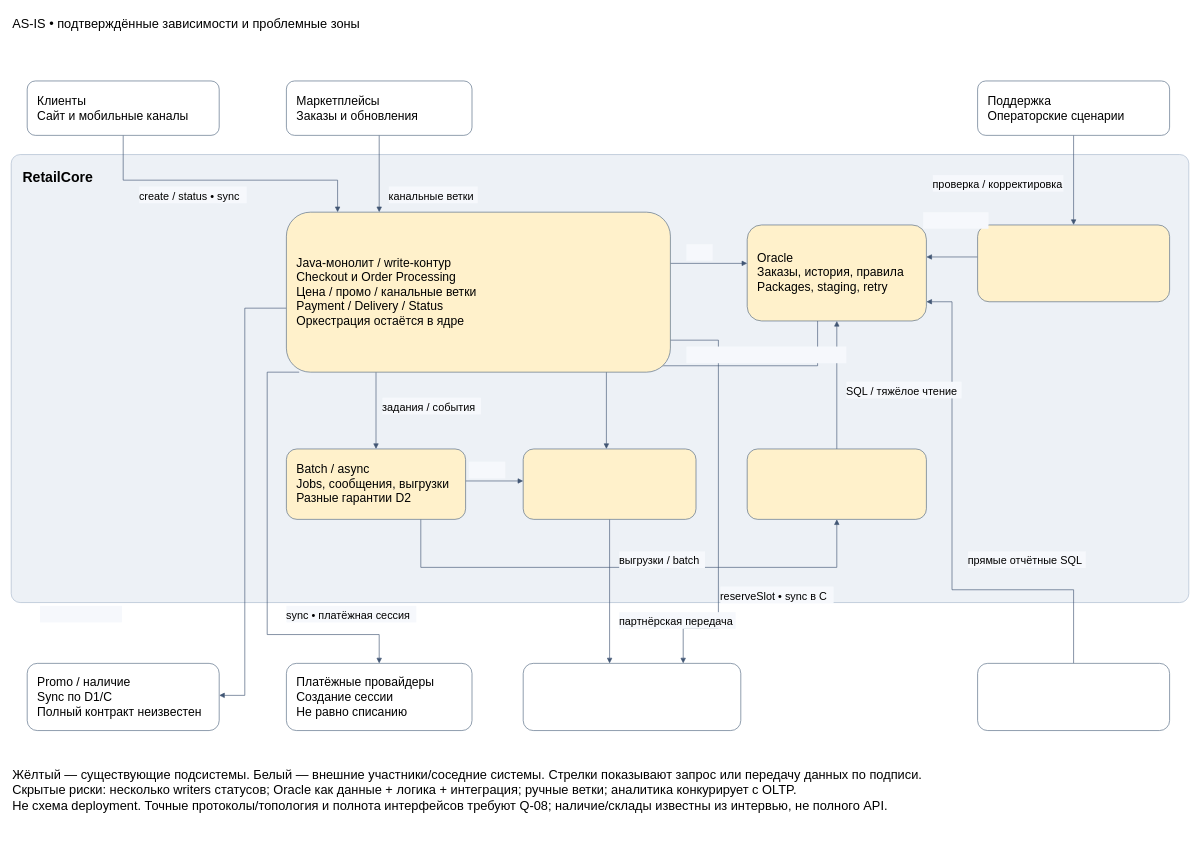
Image size: 1200x850. Some labels were removed from this diagram. Each missing label, with the centre of its shape:
.NET-интеграции Общая схема / polling Партнёрские сценарии: the point at 609,483
Admin / Support tools Чтение и ручные действия S, D1, P: the point at 1073,263
BI / бизнес Отчётные запросы Разные определения D3: the point at 1073,697
Python-аналитика SQL, API, staging, CSV D3 / P: the point at 836,483
SQL: the point at 699,252
staging / INT_ORDER_EXPORT: the point at 766,354
вызов / fallback: the point at 81,613
Доставка / склады Sync / batch / broker Исключения, дубли D2: the point at 632,697
обмен: the point at 486,469
тех. данные: the point at 955,220
